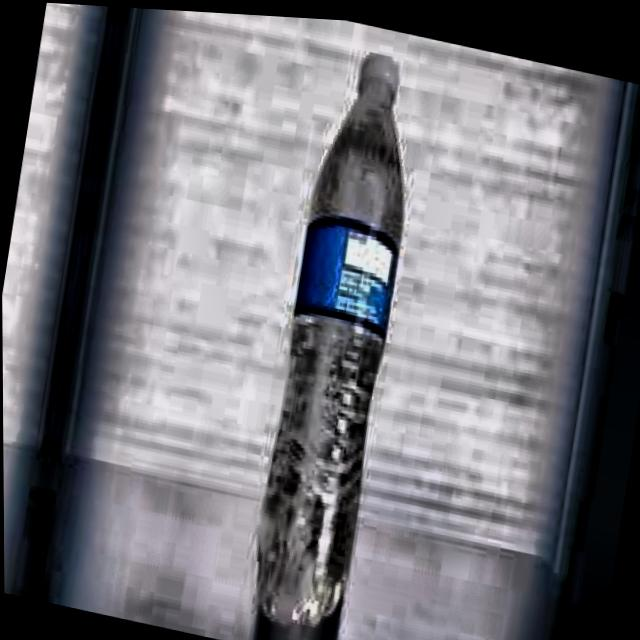Bottles: (227, 31, 441, 640)
